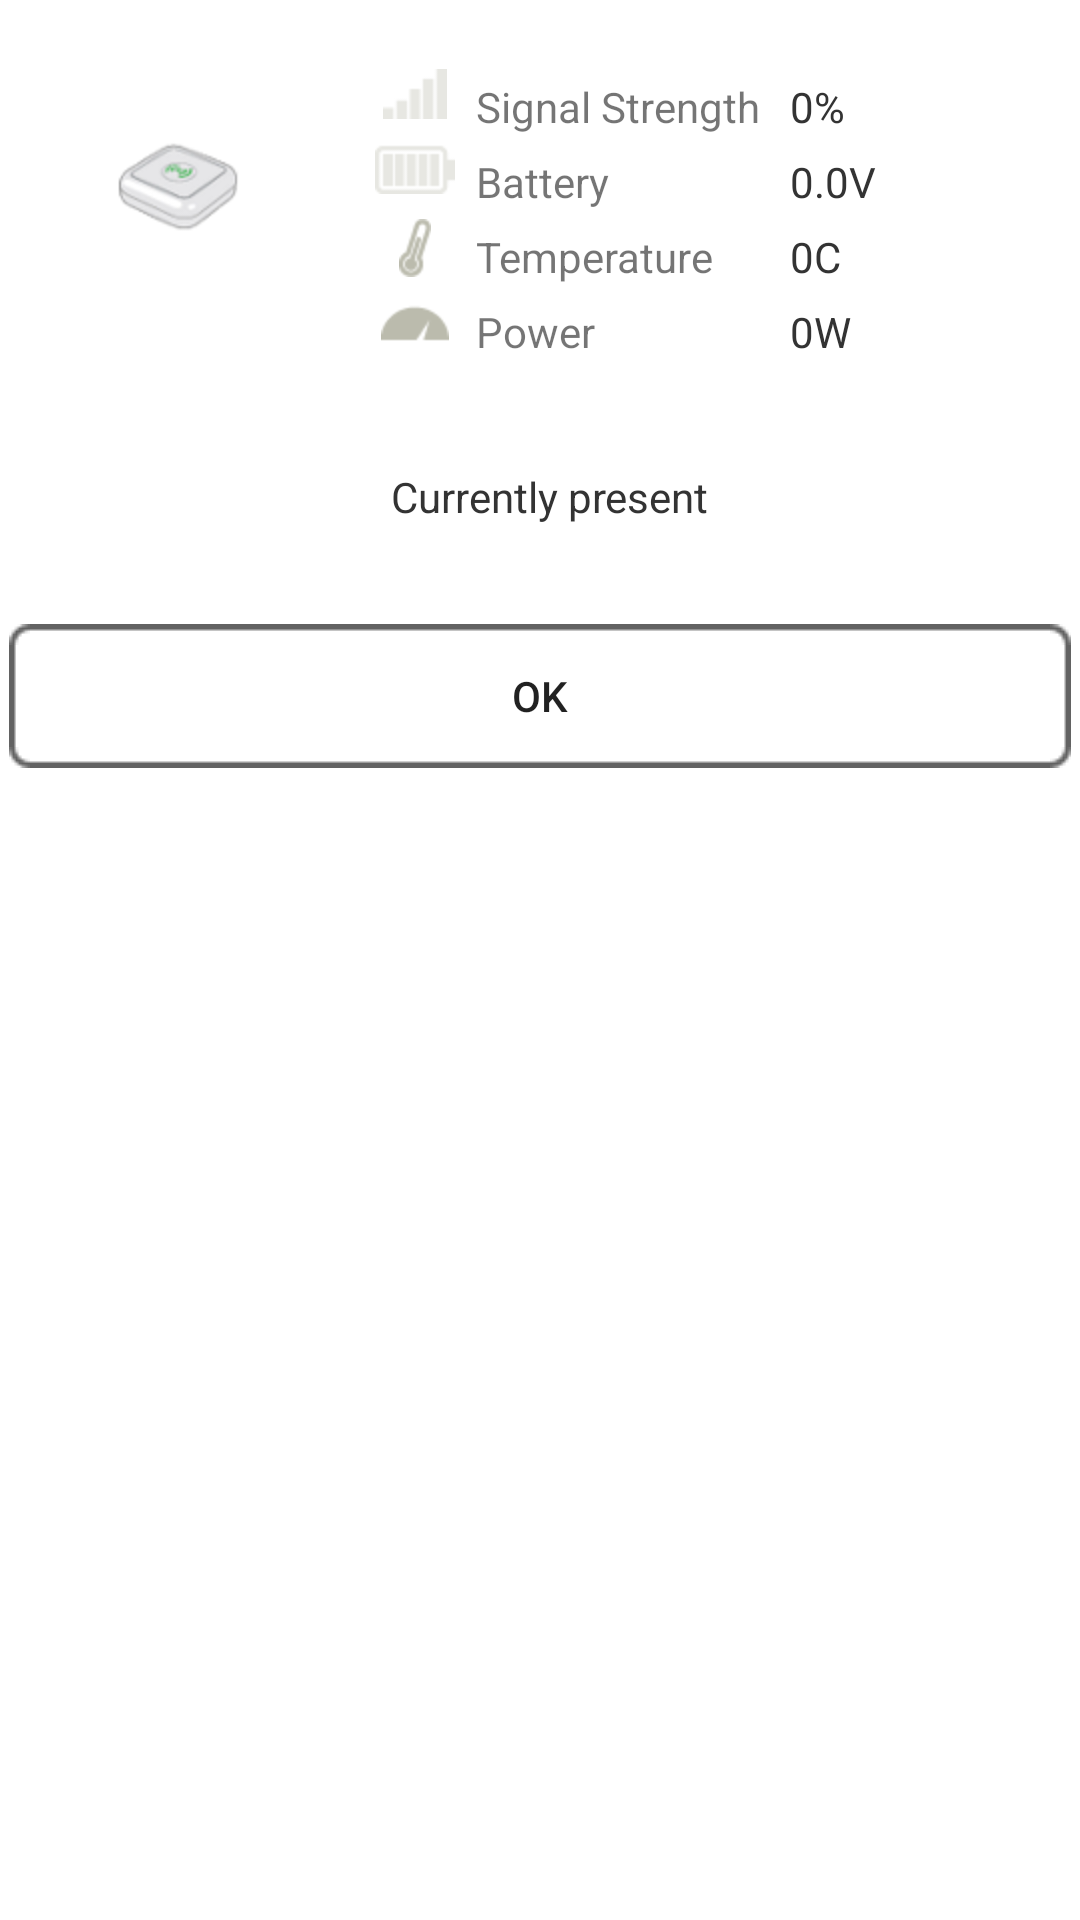

Icon bounding boxes for this 1080 x 1920 phone screenshot, format [left=x1, top=y1, right=x2, bottom=y2]:
sensor signal: [left=383, top=69, right=447, bottom=119]
sensordetail hub: [left=118, top=144, right=237, bottom=229]
